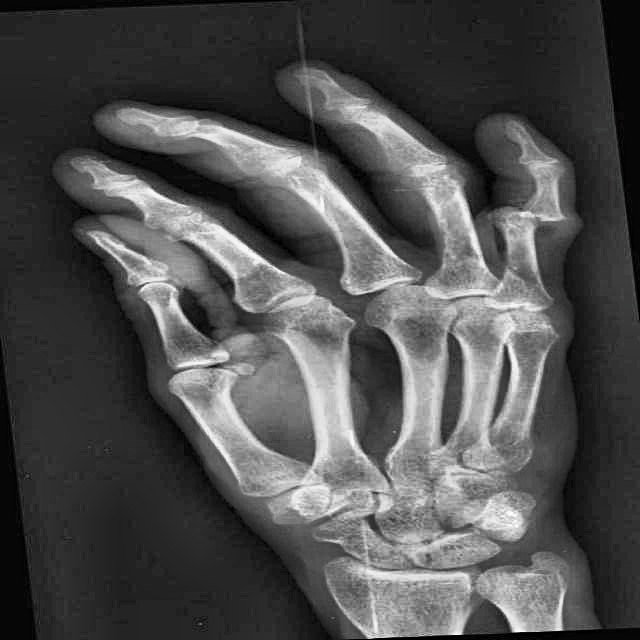Transverse: (479, 192, 588, 237)
